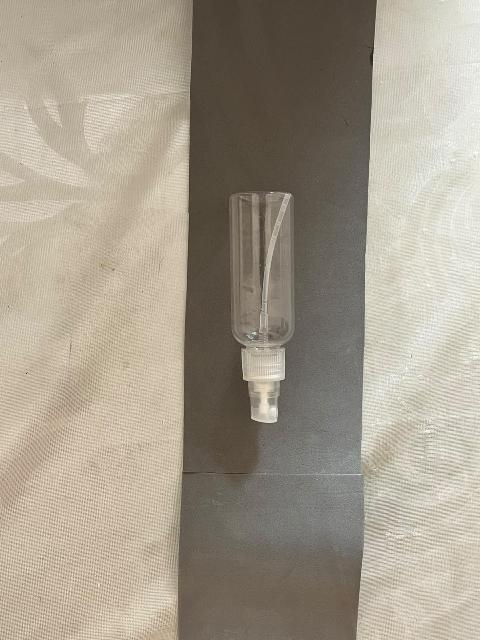PET: (187, 162, 367, 503)
